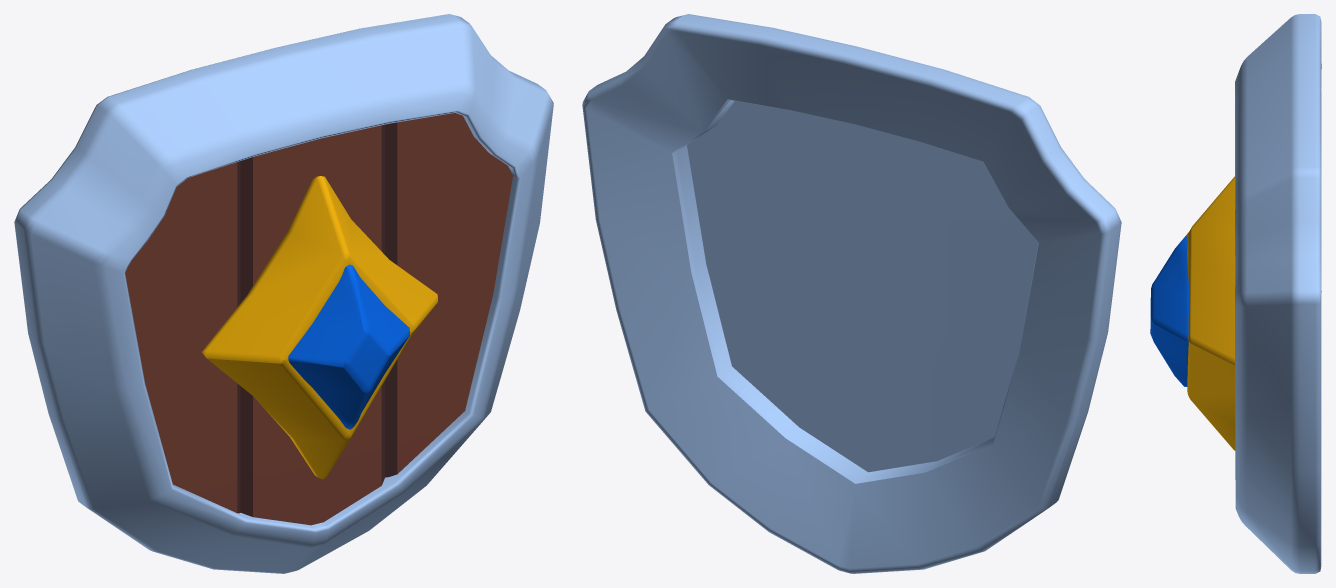
The picture shows the model from 3 angles, left to right: view 1: azimuth 30°, elevation 25°; view 2: azimuth 150°, elevation 25°; view 3: azimuth 270°, elevation 25°; orthographic projection. The views are drawn at different scales.
Parts seen in each view (by area): view 1: model_1.032; view 2: model_1.032; view 3: model_1.032.
Part boxes in pixels (box(x1,y1,x2,y2)): model_1.032: box(14, 14, 553, 573); model_1.032: box(582, 14, 1121, 573); model_1.032: box(1150, 14, 1321, 573).
Size of the model in its own units: 4.58 by 4.29 by 1.39.
